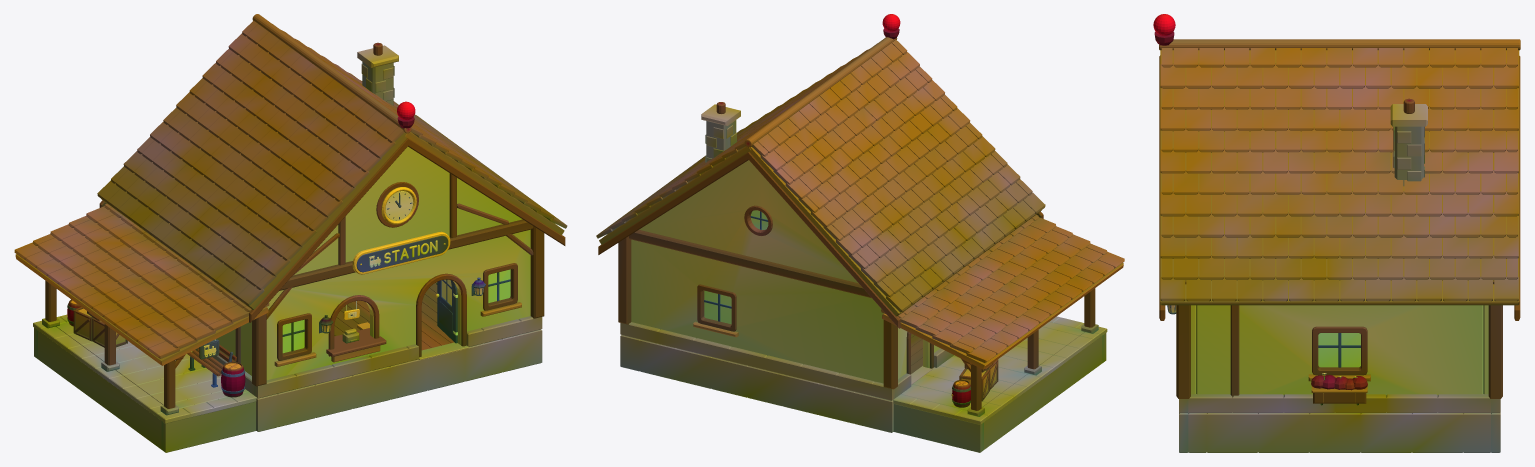
Rendered from Station_Building_Large.fbx.
The picture shows the model from 3 angles, left to right: view 1: azimuth 30°, elevation 25°; view 2: azimuth 150°, elevation 25°; view 3: azimuth 270°, elevation 25°; orthographic projection. The views are drawn at different scales.
Parts seen in each view (by area): view 1: Roof, LeanTo, Walls, Plinth, Facade, Openings, Door, Loose_CrateStack_Canopy, Loose_Barrel_Canopy, Loose_Bench_Canopy; view 2: Roof, Walls, LeanTo, Plinth, Facade, Loose_CrateStack_Canopy; view 3: Roof, Walls, Plinth, Facade.
Boxes of the visible parts, bbox=[...] form: Roof: bbox=[97, 14, 567, 309]; LeanTo: bbox=[14, 204, 269, 452]; Walls: bbox=[99, 138, 565, 386]; Plinth: bbox=[195, 282, 542, 431]; Facade: bbox=[274, 182, 521, 366]; Openings: bbox=[326, 273, 466, 362]; Door: bbox=[435, 279, 457, 343]; Loose_CrateStack_Canopy: bbox=[73, 307, 127, 347]; Loose_Barrel_Canopy: bbox=[221, 362, 245, 397]; Loose_Bench_Canopy: bbox=[187, 344, 236, 387]; Roof: bbox=[596, 14, 1045, 316]; Walls: bbox=[598, 152, 1043, 389]; LeanTo: bbox=[881, 214, 1124, 452]; Plinth: bbox=[620, 322, 953, 432]; Facade: bbox=[693, 205, 933, 374]; Loose_CrateStack_Canopy: bbox=[959, 359, 998, 401]; Roof: bbox=[1153, 14, 1520, 305]; Walls: bbox=[1159, 55, 1520, 398]; Plinth: bbox=[1179, 394, 1500, 452]; Facade: bbox=[1167, 305, 1370, 405].
Size of the model in its own units: 13.03 by 9.19 by 8.59.
